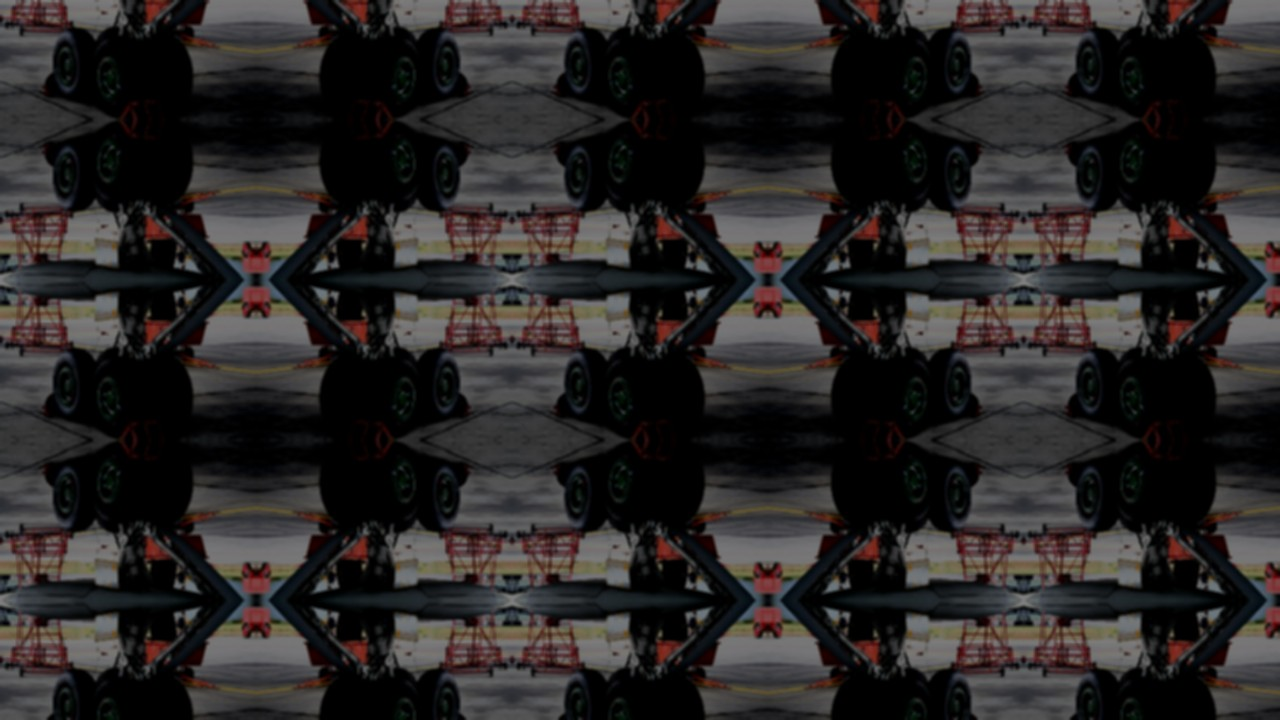chock: (117, 97, 166, 119), (346, 97, 395, 119), (629, 97, 678, 119), (858, 97, 907, 119), (1141, 97, 1190, 119), (117, 120, 166, 142), (346, 120, 395, 142), (629, 120, 678, 142), (858, 120, 907, 142), (1141, 120, 1190, 142), (117, 418, 166, 440), (346, 418, 395, 440), (629, 418, 678, 440), (858, 418, 907, 440), (1141, 418, 1190, 440), (117, 441, 166, 463), (346, 441, 395, 463), (629, 441, 678, 463), (858, 441, 907, 463), (1141, 441, 1190, 463), (37, 141, 60, 167), (452, 141, 475, 167), (549, 141, 572, 167), (964, 141, 987, 167), (1061, 141, 1084, 167), (37, 462, 60, 488), (452, 462, 475, 488), (549, 462, 572, 488), (964, 462, 987, 488), (1061, 462, 1084, 488), (37, 72, 60, 97), (452, 72, 475, 97), (549, 72, 572, 97), (964, 72, 987, 97), (1061, 72, 1084, 97), (37, 393, 60, 418), (452, 393, 475, 418), (549, 393, 572, 418), (964, 393, 987, 418), (1061, 393, 1084, 418), (37, 714, 60, 720), (452, 714, 475, 720), (549, 714, 572, 720), (964, 714, 987, 720), (1061, 714, 1084, 720)
wheel: (90, 35, 150, 117), (362, 35, 422, 117), (602, 35, 662, 117), (874, 35, 934, 117), (1114, 35, 1174, 117), (90, 122, 150, 204), (362, 122, 422, 204), (602, 122, 662, 204), (874, 122, 934, 204), (1114, 122, 1174, 204), (90, 356, 150, 438), (362, 356, 422, 438), (602, 356, 662, 438), (874, 356, 934, 438), (1114, 356, 1174, 438), (90, 443, 150, 525), (362, 443, 422, 525), (602, 443, 662, 525), (874, 443, 934, 525), (1114, 443, 1174, 525), (142, 127, 193, 205), (319, 127, 370, 205), (654, 127, 705, 205), (831, 127, 882, 205), (1166, 127, 1217, 205), (142, 448, 193, 526), (319, 448, 370, 526), (654, 448, 705, 526), (831, 448, 882, 526), (1166, 448, 1217, 526), (142, 34, 193, 111), (319, 34, 370, 111), (654, 34, 705, 111), (831, 34, 882, 111), (1166, 34, 1217, 111), (142, 355, 193, 432), (319, 355, 370, 432), (654, 355, 705, 432), (831, 355, 882, 432), (1166, 355, 1217, 432), (52, 27, 95, 101), (417, 27, 460, 101), (564, 27, 607, 101), (929, 27, 972, 101), (1076, 27, 1119, 101), (52, 138, 95, 212), (417, 138, 460, 212), (564, 138, 607, 212), (929, 138, 972, 212), (1076, 138, 1119, 212), (52, 348, 95, 422), (417, 348, 460, 422), (564, 348, 607, 422), (929, 348, 972, 422), (1076, 348, 1119, 422), (52, 459, 95, 533), (417, 459, 460, 533), (564, 459, 607, 533), (929, 459, 972, 533), (1076, 459, 1119, 533), (90, 677, 150, 720), (362, 677, 422, 720), (602, 677, 662, 720), (874, 677, 934, 720), (1114, 677, 1174, 720), (142, 676, 193, 720), (319, 676, 370, 720), (654, 676, 705, 720), (831, 676, 882, 720), (1166, 676, 1217, 720), (52, 669, 95, 720), (417, 669, 460, 720), (564, 669, 607, 720), (929, 669, 972, 720), (1076, 669, 1119, 720), (95, 26, 121, 43), (391, 26, 417, 43), (607, 26, 633, 43), (903, 26, 929, 43), (1119, 26, 1145, 43), (95, 347, 121, 364), (391, 347, 417, 364), (607, 347, 633, 364), (903, 347, 929, 364), (1119, 347, 1145, 364), (95, 668, 121, 685), (391, 668, 417, 685), (607, 668, 633, 685), (903, 668, 929, 685), (1119, 668, 1145, 685), (95, 196, 121, 212), (391, 196, 417, 212), (607, 196, 633, 212), (903, 196, 929, 212), (1119, 196, 1145, 212), (95, 517, 121, 533), (391, 517, 417, 533), (607, 517, 633, 533), (903, 517, 929, 533), (1119, 517, 1145, 533)
